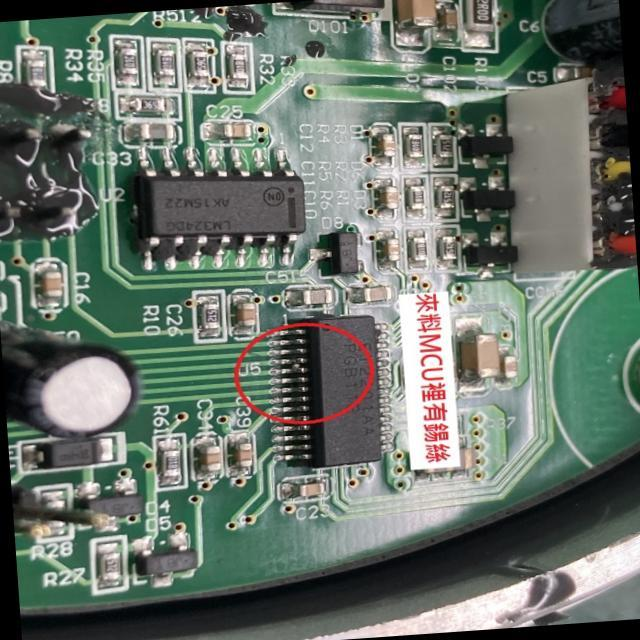Short_circuit: (275, 355, 307, 377)
